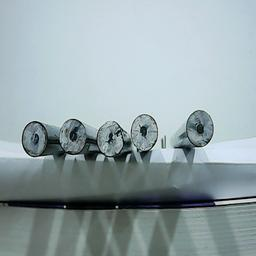pen: (129, 113, 160, 153), (186, 107, 213, 147), (58, 120, 88, 155), (20, 121, 49, 157), (96, 121, 125, 157)
